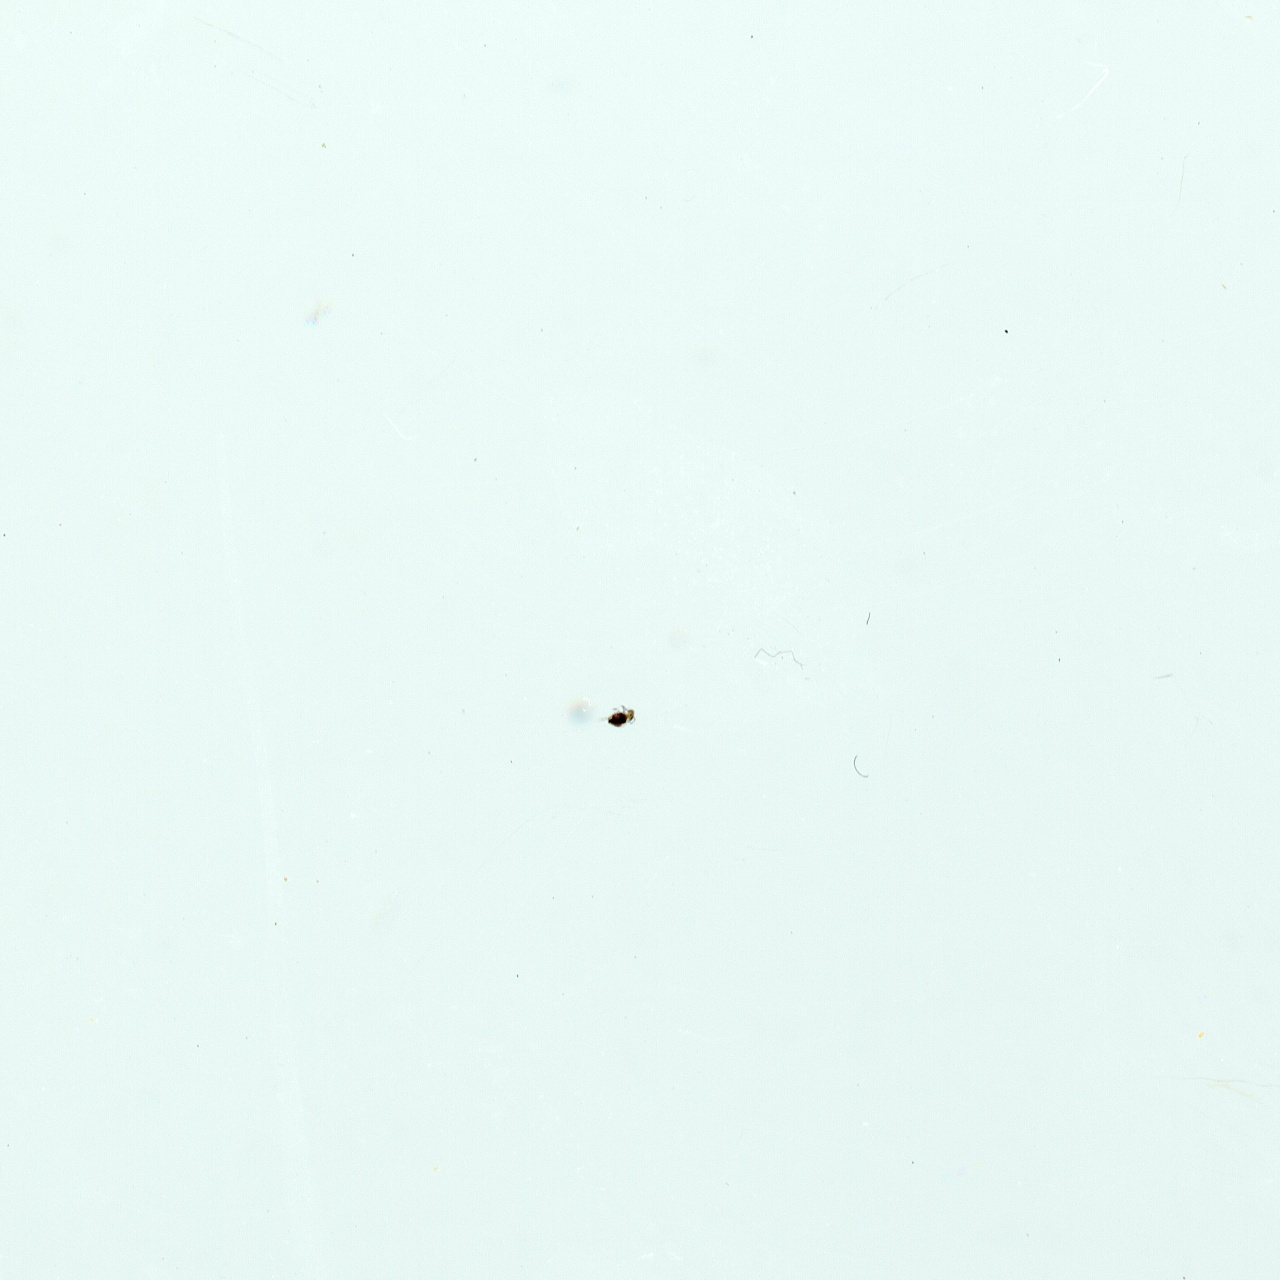arthropod: (594, 700, 641, 734)
